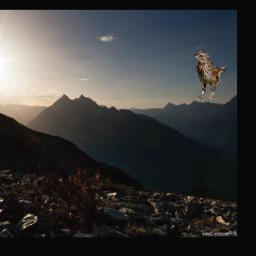Sparrow: (194, 52, 227, 100)
